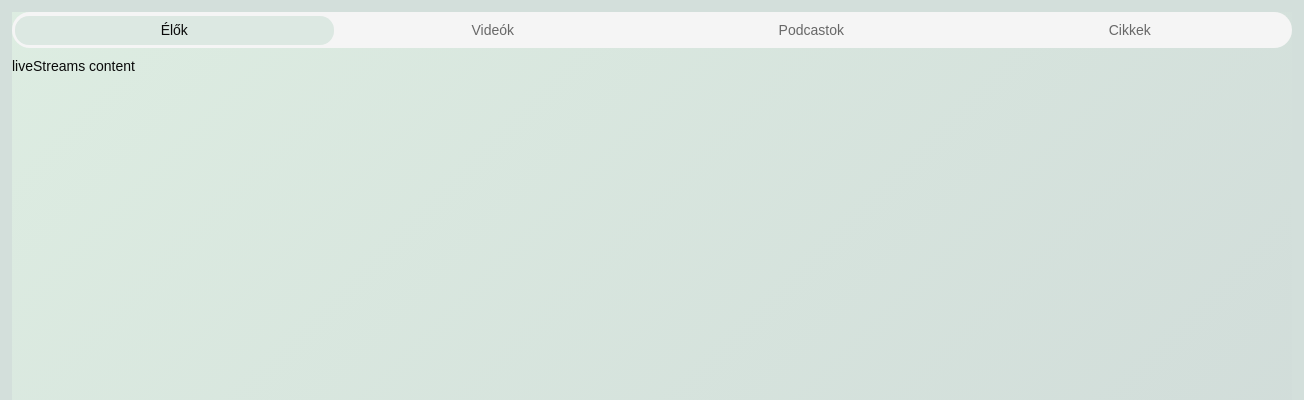
Scenario: MobileDashboardTabs › mounts the clicked tab's widget and unmounts the previous one
The width and height of the screenshot is (1304, 400).
Press the mouse on the tab "Podcastok" at (811, 30), box [652,16,970,44]
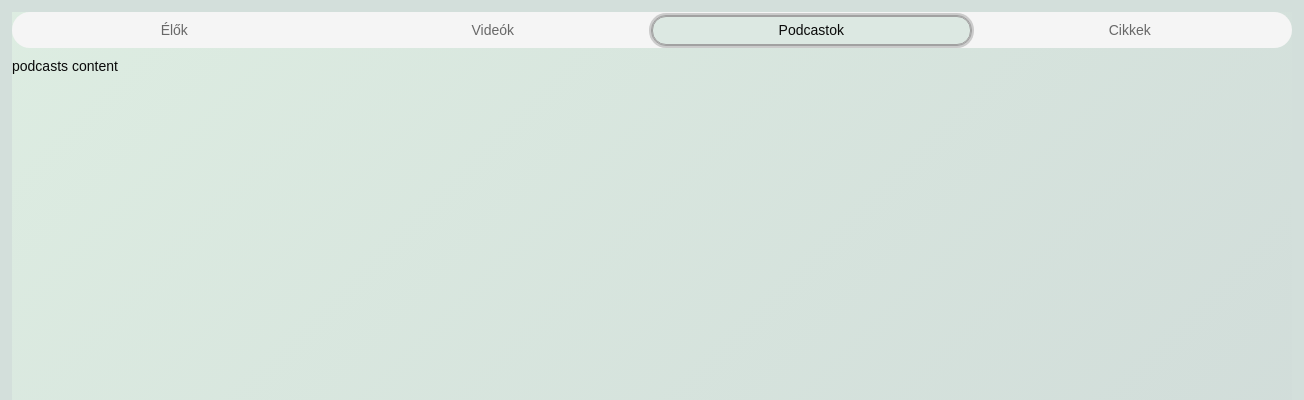
Check: the text "podcasts content" is shown, box [12,58,118,74]
Check: the text with test id "widget-liveStreams" is gone
